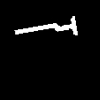half_double_crochet: (15, 16, 76, 34)
